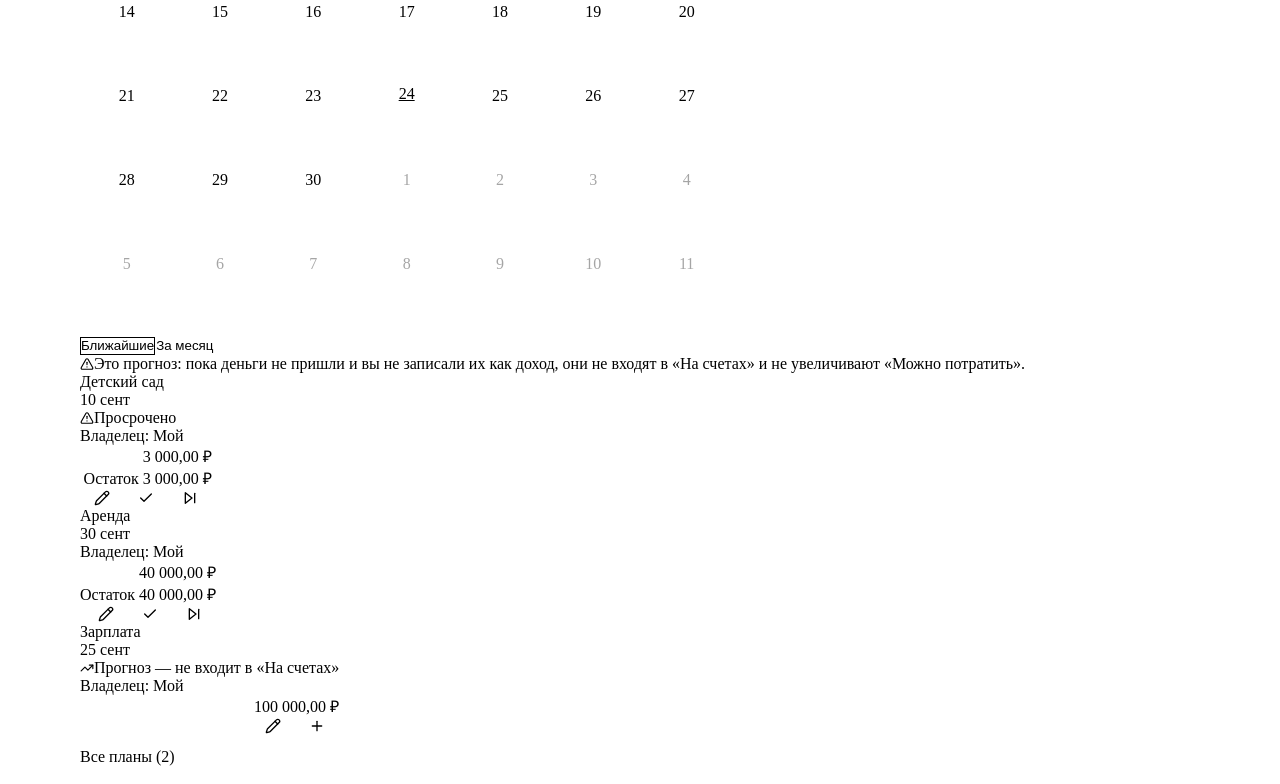
Test case: plans page › plan edit › announces a name-only edit without a counter
(page scrolled)
Click the button with test id "obligation-edit-occ-rent" at (106, 614), box [84,605,128,623]
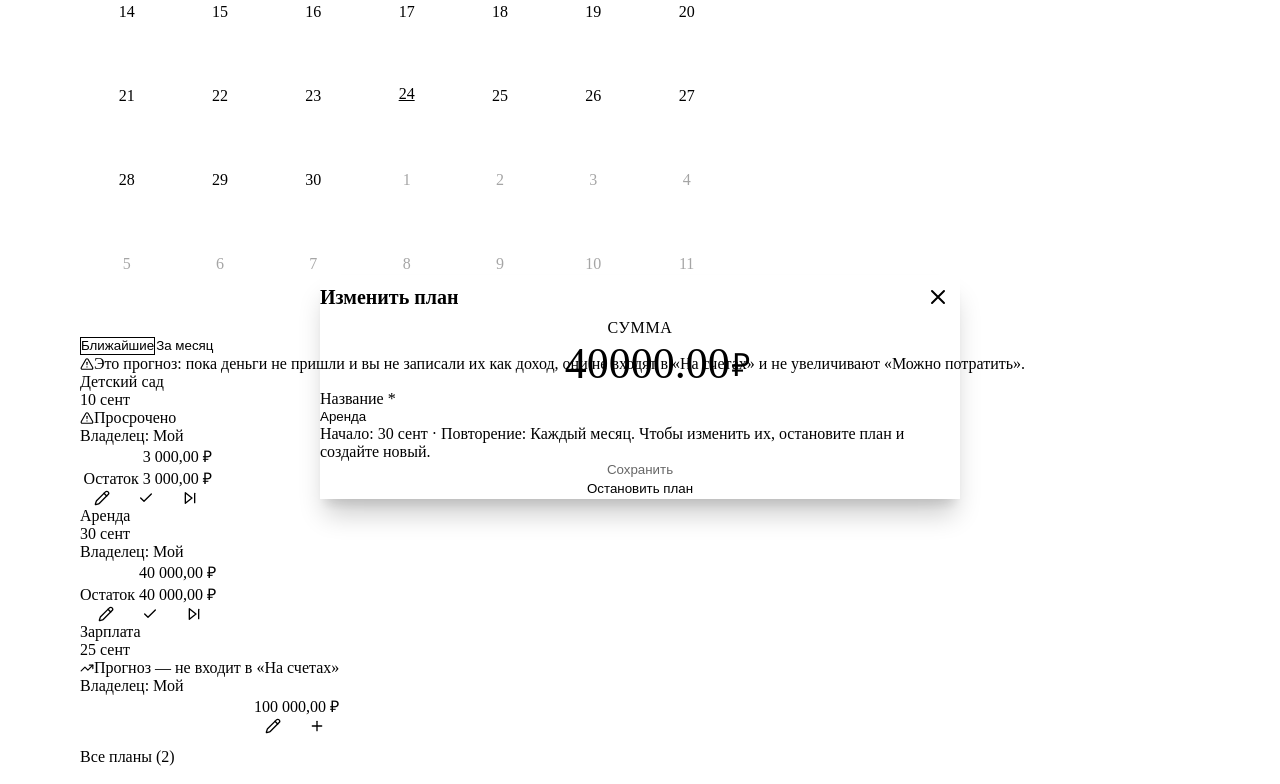
Replace the text in the field labelled "Название *" with "Квартира" at (640, 417), box [320,408,960,425]
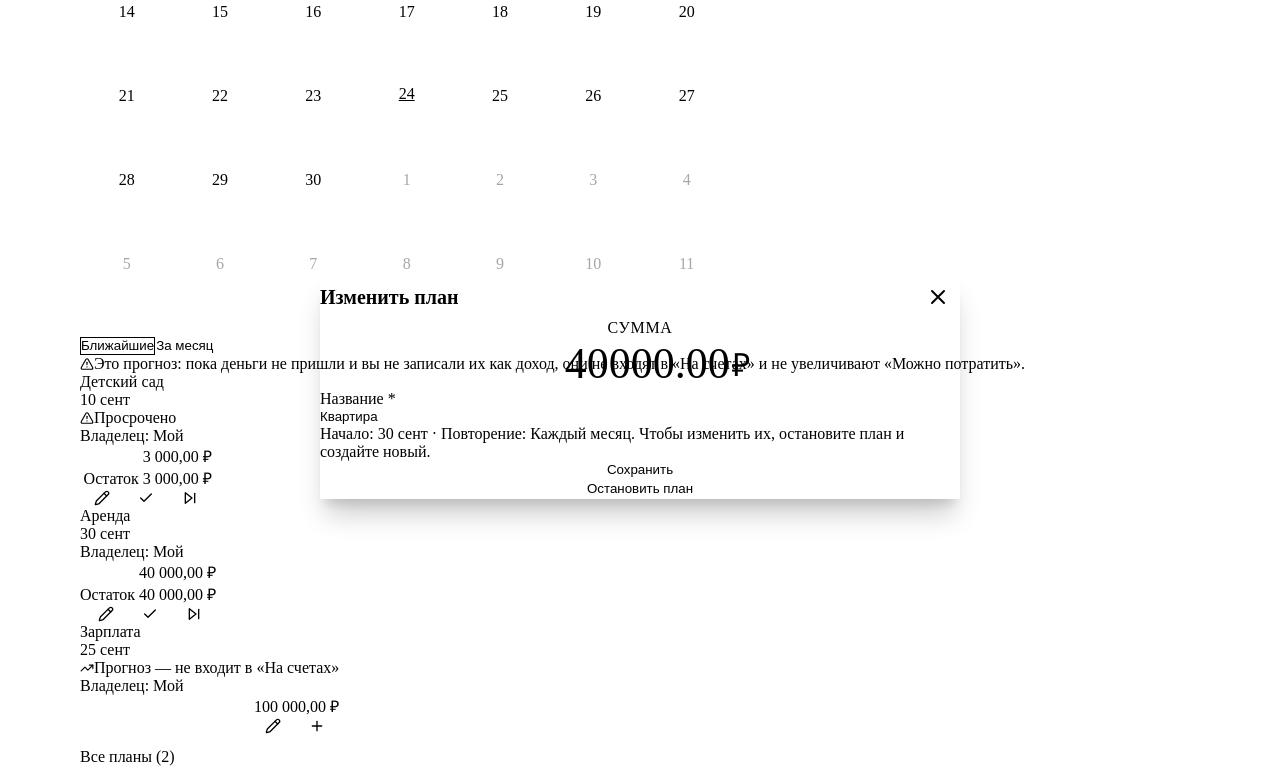
Click the button with test id "plan-edit-submit" at (640, 471), box [320,461,960,480]
(page scrolled)
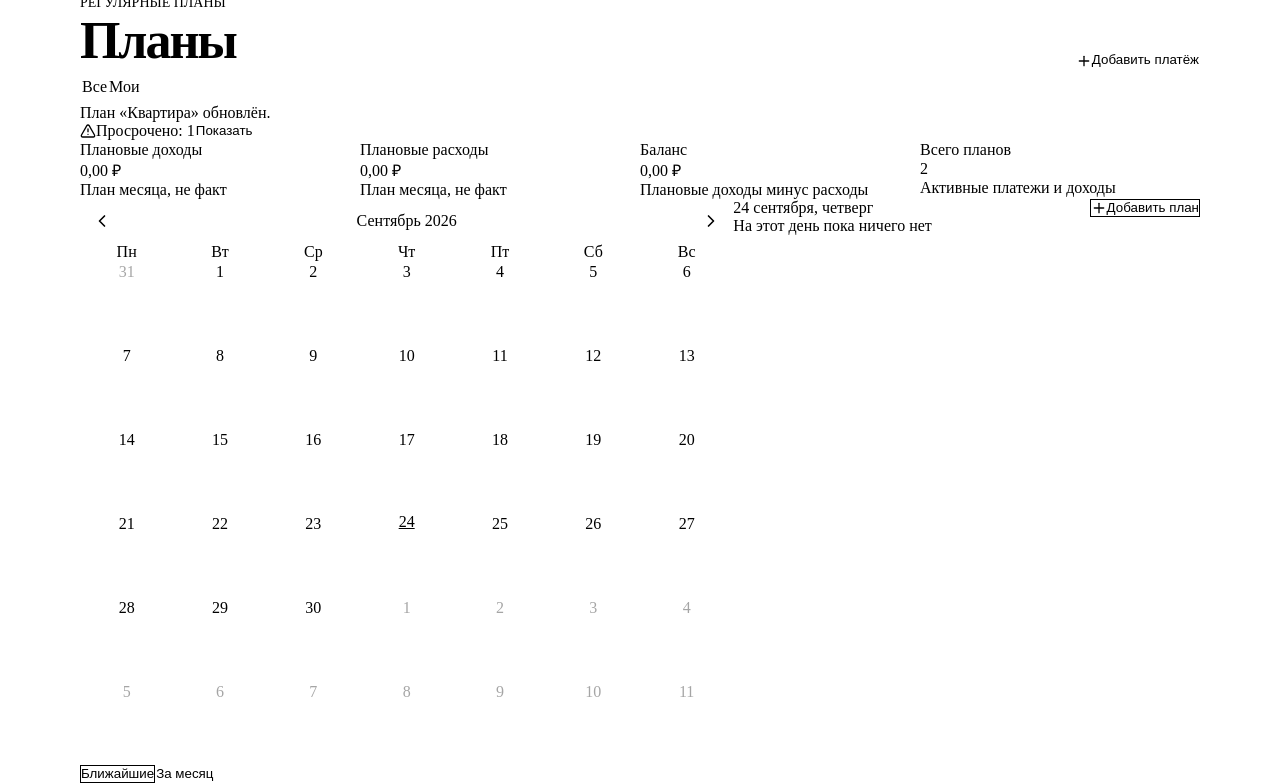
Result: the message "План «Квартира» обновлён." is shown at [80,104,270,121]
